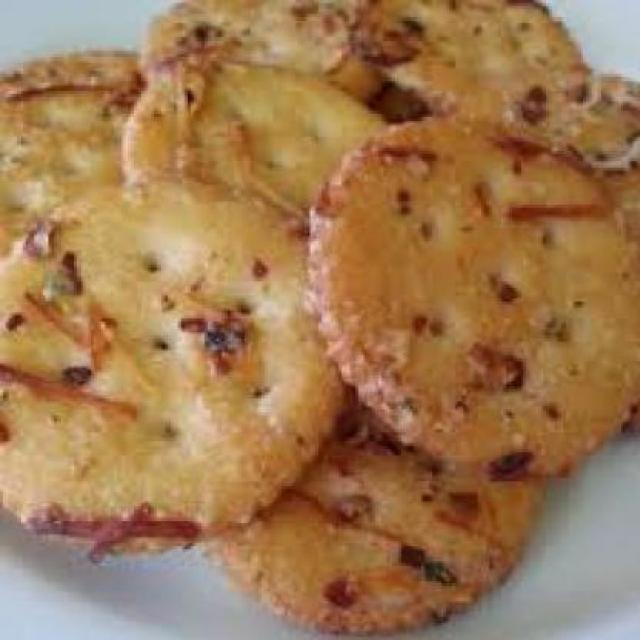Ritz cracker packaged: (11, 27, 632, 624)
